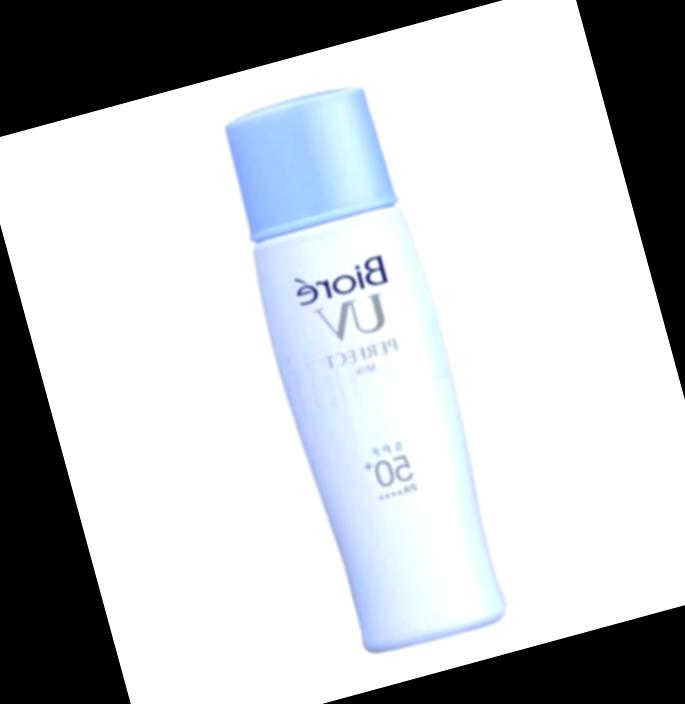cosmetic: (215, 86, 514, 655)
